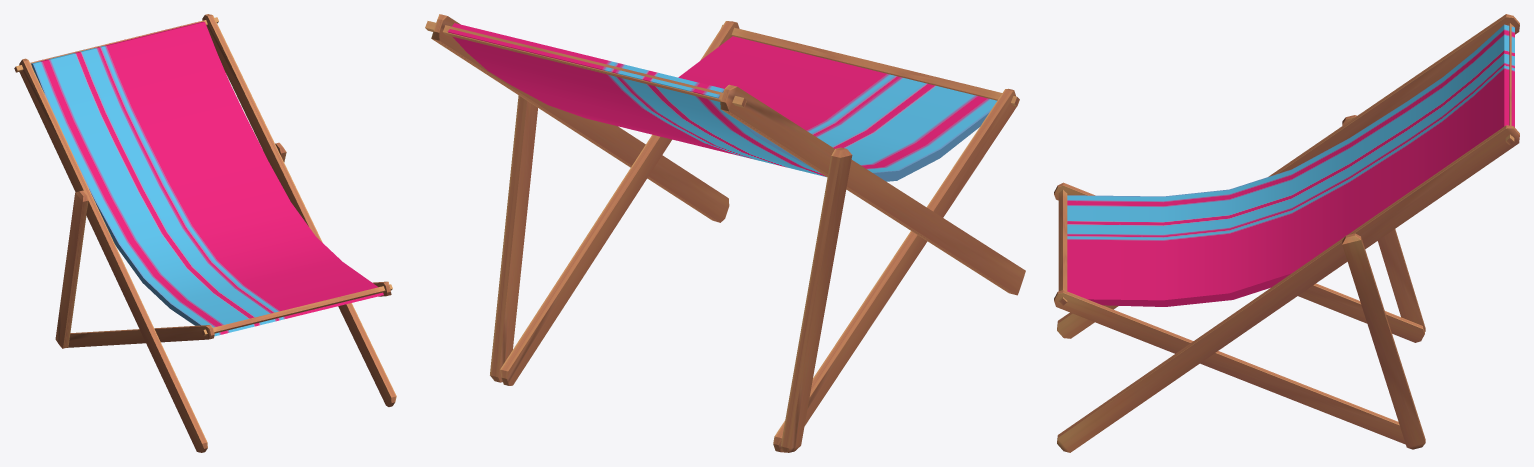
The model's file is lounge-chair-1g.fbx.
The picture shows the model from 3 angles, left to right: view 1: azimuth 30°, elevation 25°; view 2: azimuth 150°, elevation 25°; view 3: azimuth 270°, elevation 25°; orthographic projection. The views are drawn at different scales.
Parts seen in each view (by area): view 1: pCube13; view 2: pCube13; view 3: pCube13.
Part boxes in pixels (<box>): pCube13: <box>14,14,396,452</box>; pCube13: <box>425,14,1025,452</box>; pCube13: <box>1054,14,1519,452</box>.
Size of the model in its own units: 95.3 by 117 by 152.
Materials: 1 (1 with a texture image).
